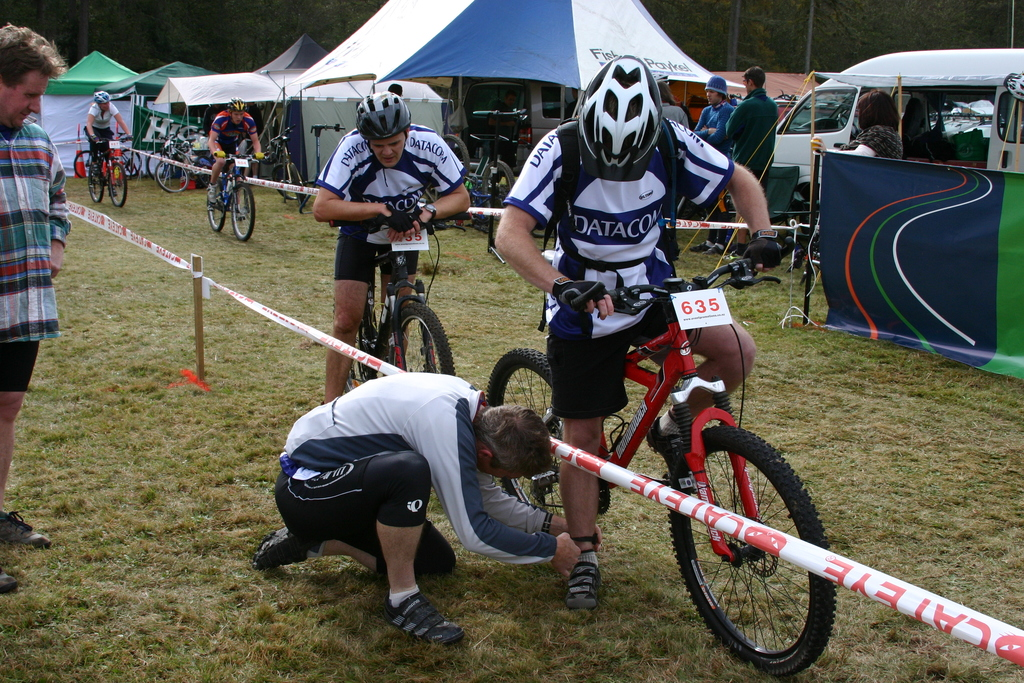Bike_toward: (490, 310, 843, 679), (322, 204, 461, 373), (205, 151, 271, 245), (82, 134, 134, 211)
